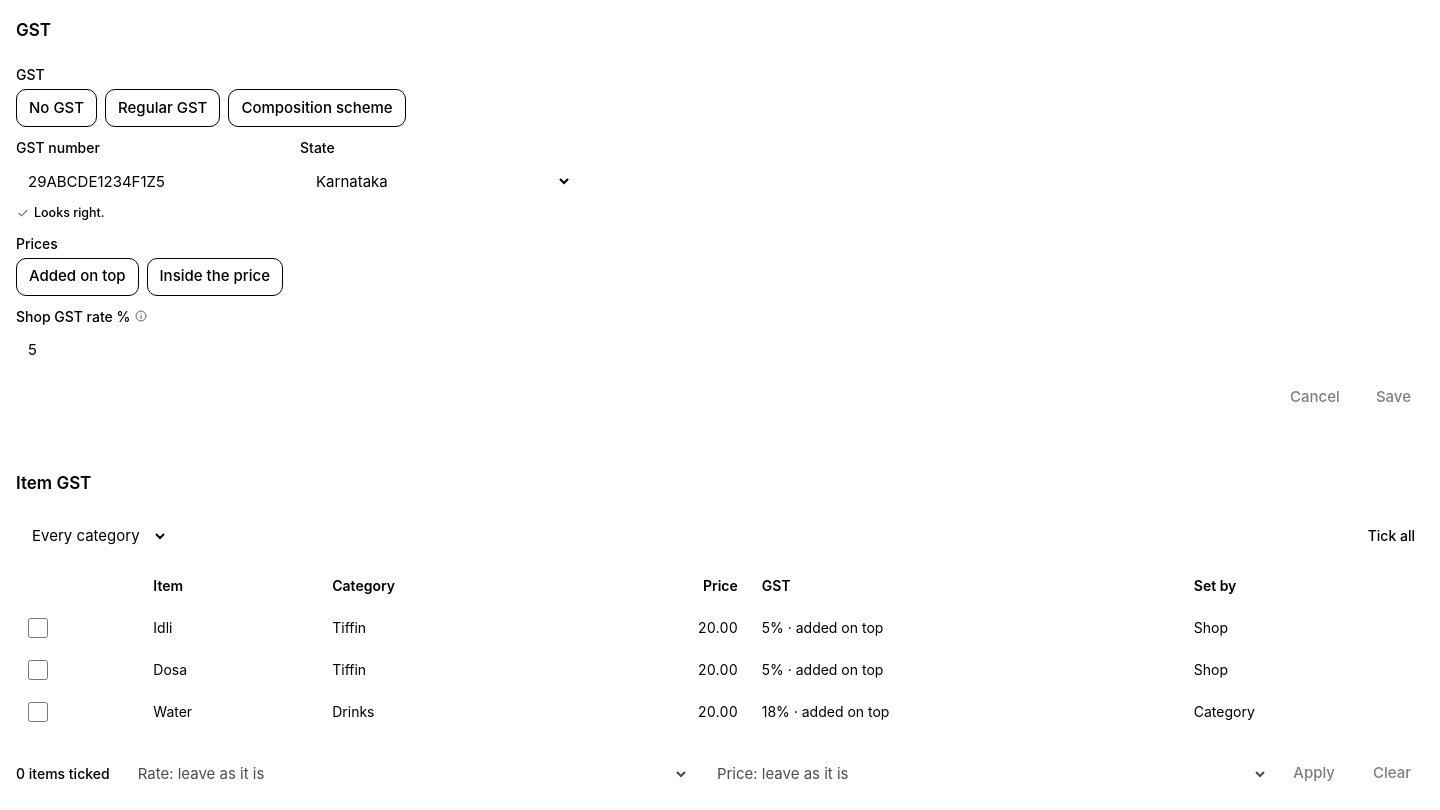
Test: the GST card › hides the number, the price rule and the rate when GST is off
expect the field labelled "Shop GST rate %" is shown: met, box [16,331,288,369]
Click the button "No GST" at (56, 108), box [16,89,97,127]
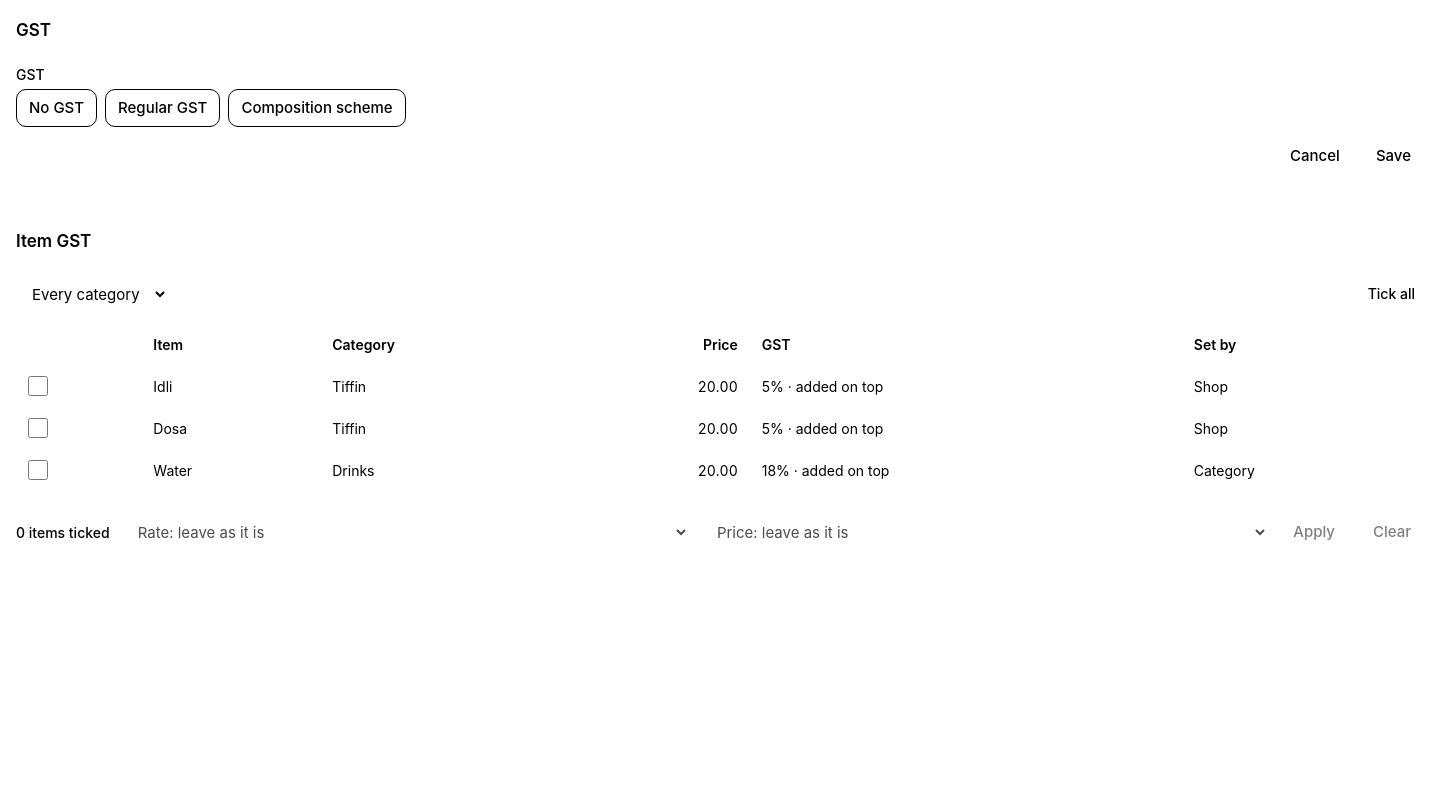
expect the label labelled "GST number" is gone: met
expect the label labelled "Shop GST rate %" is gone: met
expect the button "Inside the price" is gone: met
